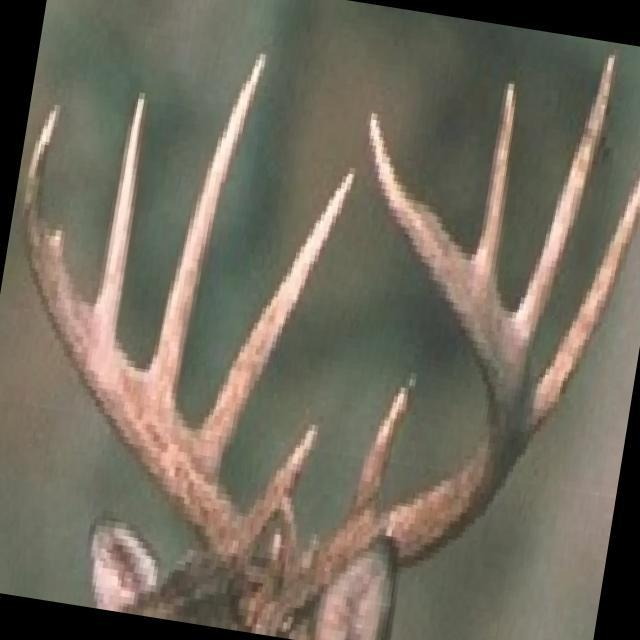E1: (274, 500, 298, 573)
L-F: (238, 113, 525, 637)
L-G1: (348, 370, 417, 530)
L-G2: (517, 176, 640, 462)
L-G3: (512, 52, 619, 365)
L-G4: (472, 79, 517, 281)
R-G1: (244, 422, 319, 549)
R-G2: (194, 168, 357, 473)
R-G3: (146, 46, 269, 402)
R-G4: (92, 90, 148, 339)
